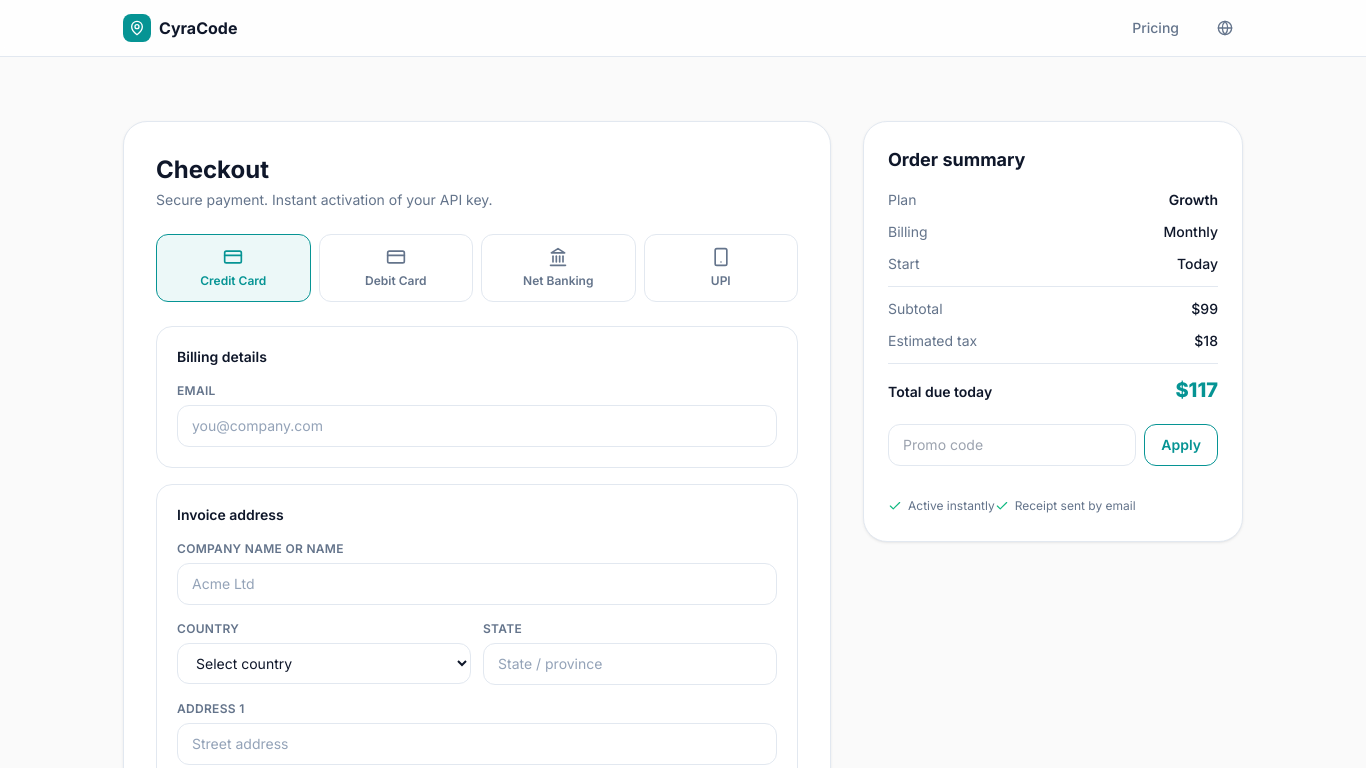
PaymentPage › switches between payment methods
Step 1. Click the tab "Net Banking" → (558, 268), box top-left (481, 234), bottom-right (636, 302)
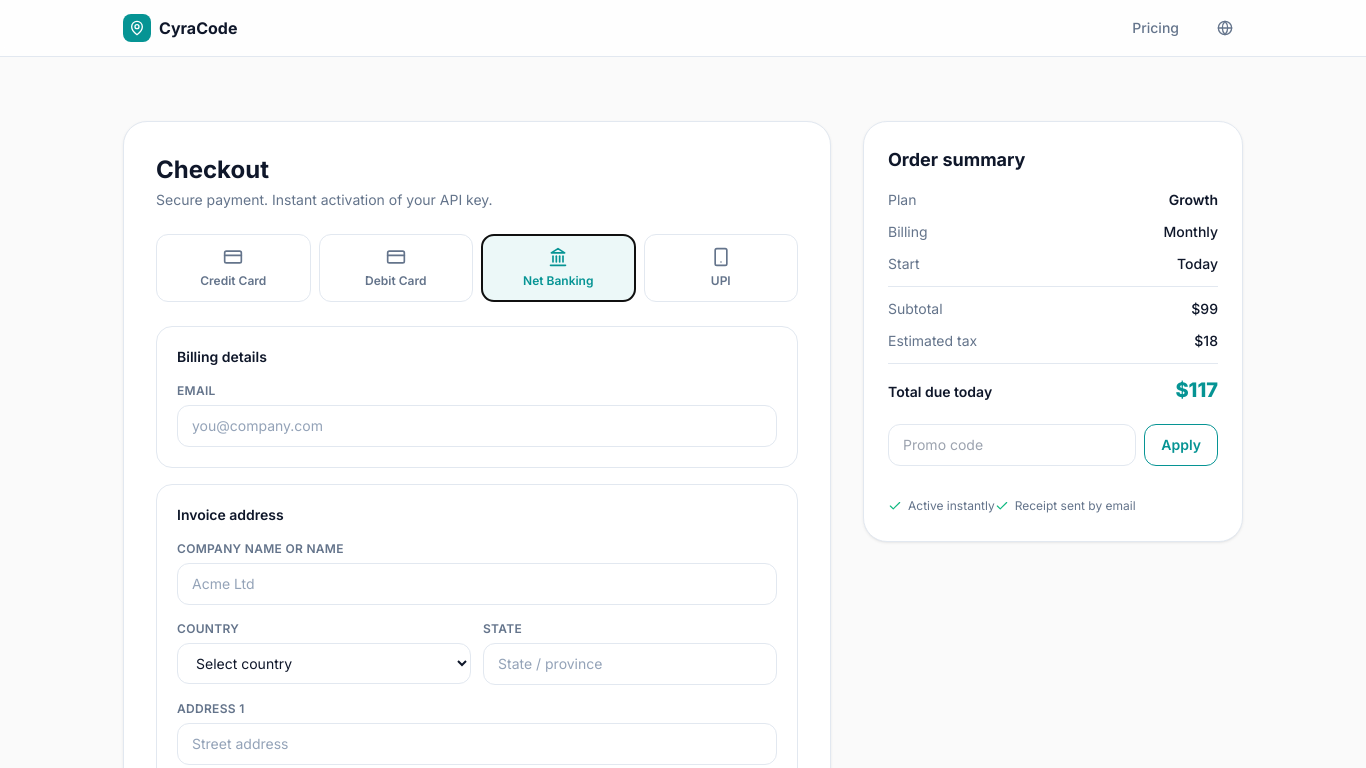
Step 2. Click the tab "UPI" → (721, 268), box top-left (644, 234), bottom-right (798, 302)
(page scrolled)
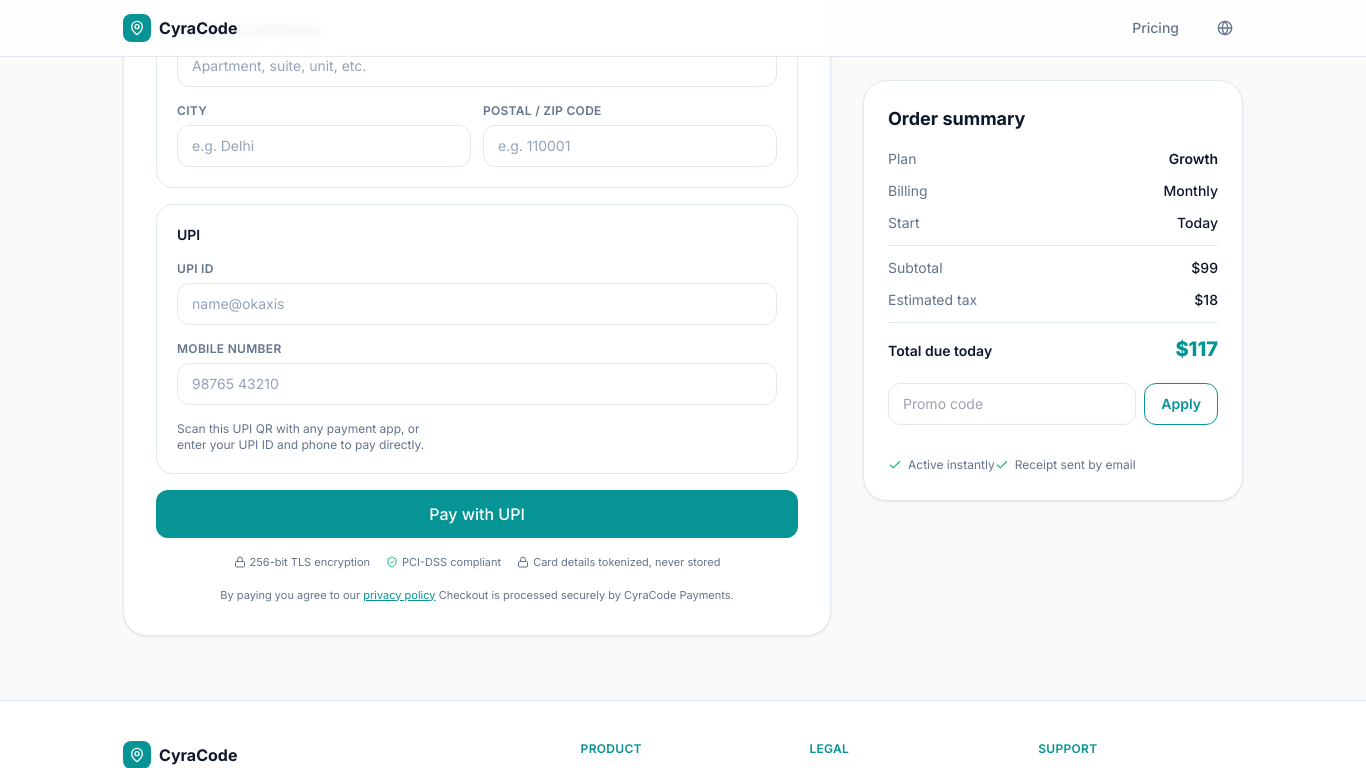
Check: the field labelled "UPI ID" is shown, box top-left (177, 283), bottom-right (777, 325)
Check: the field labelled "Mobile number" is shown, box top-left (177, 363), bottom-right (777, 405)
